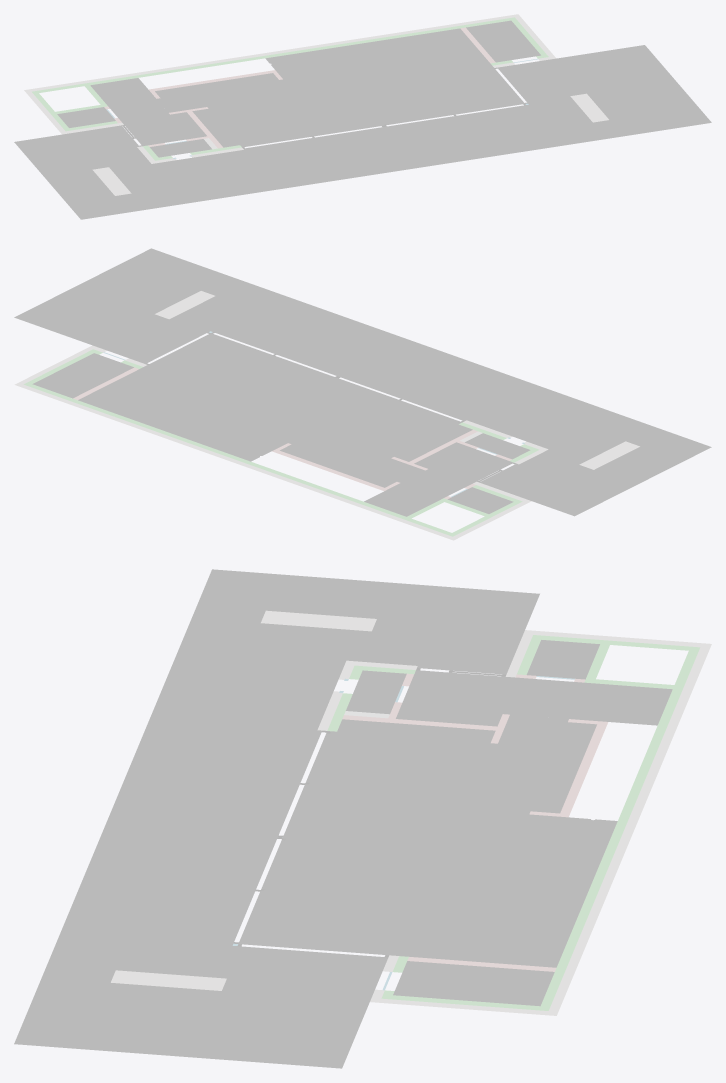
File: floor-495800.glb
3 views of the same model, one above another, from view 1: azimuth 30°, elevation 25°; view 2: azimuth 150°, elevation 25°; view 3: azimuth 270°, elevation 25° (orthographic). The views are drawn at different scales.
Parts seen in each view (by area): view 1: SectionBody_8,b683faed-fb9d-4cc6-b100-20de4a1bdad3, SectionBody_24,c4d4f5d7-260c-4ad4-a9ce-62868acbba62, SectionBody_52,63c04251-d135-4bce-8152-a9d17808b4c5, SectionBody_56,2d03ef07-ffb8-4f88-878f-c5a2b548d946, SectionBody_35,dc67b657-ab68-42d4-8bbd-9122a325cf12, SectionBody_34,dc67b657-ab68-42d4-8bbd-9122a325cf12, SectionBody_60,40f009c5-f6c7-4ef2-8b93-dde184843d29, SectionBody_32,89b1fc52-30c9-421b-8aba-7937692566b4, SectionBody_33,795bc6dd-ffb6-464f-bd53-32254240021a, SectionBody_58,afa63a6e-7fae-4072-89ff-7fe7ec9445ff, SectionBody_43,9666f702-09d8-429c-ab40-5c51cb5530fb; view 2: SectionBody_8,b683faed-fb9d-4cc6-b100-20de4a1bdad3, SectionBody_24,c4d4f5d7-260c-4ad4-a9ce-62868acbba62, SectionBody_52,63c04251-d135-4bce-8152-a9d17808b4c5, SectionBody_56,2d03ef07-ffb8-4f88-878f-c5a2b548d946, SectionBody_35,dc67b657-ab68-42d4-8bbd-9122a325cf12, SectionBody_34,dc67b657-ab68-42d4-8bbd-9122a325cf12, SectionBody_60,40f009c5-f6c7-4ef2-8b93-dde184843d29, SectionBody_32,89b1fc52-30c9-421b-8aba-7937692566b4, SectionBody_33,795bc6dd-ffb6-464f-bd53-32254240021a, SectionBody_58,afa63a6e-7fae-4072-89ff-7fe7ec9445ff, SectionBody_43,9666f702-09d8-429c-ab40-5c51cb5530fb; view 3: SectionBody_8,b683faed-fb9d-4cc6-b100-20de4a1bdad3, SectionBody_24,c4d4f5d7-260c-4ad4-a9ce-62868acbba62, SectionBody_52,63c04251-d135-4bce-8152-a9d17808b4c5, SectionBody_56,2d03ef07-ffb8-4f88-878f-c5a2b548d946, SectionBody_35,dc67b657-ab68-42d4-8bbd-9122a325cf12, SectionBody_34,dc67b657-ab68-42d4-8bbd-9122a325cf12, SectionBody_60,40f009c5-f6c7-4ef2-8b93-dde184843d29, SectionBody_32,89b1fc52-30c9-421b-8aba-7937692566b4, SectionBody_58,afa63a6e-7fae-4072-89ff-7fe7ec9445ff, SectionBody_33,795bc6dd-ffb6-464f-bd53-32254240021a, SectionBody_43,9666f702-09d8-429c-ab40-5c51cb5530fb, SectionBody_0,3dff5309-9560-4853-bc5e-c196fdab0b36 (+3 smaller).
Part boxes in pixels (x1,y1,x2,y2): SectionBody_8,b683faed-fb9d-4cc6-b100-20de4a1bdad3: (14,45,711,219); SectionBody_24,c4d4f5d7-260c-4ad4-a9ce-62868acbba62: (155,28,524,147); SectionBody_52,63c04251-d135-4bce-8152-a9d17808b4c5: (90,78,206,146); SectionBody_56,2d03ef07-ffb8-4f88-878f-c5a2b548d946: (466,20,540,62); SectionBody_35,dc67b657-ab68-42d4-8bbd-9122a325cf12: (30,15,514,91); SectionBody_34,dc67b657-ab68-42d4-8bbd-9122a325cf12: (37,18,510,92); SectionBody_60,40f009c5-f6c7-4ef2-8b93-dde184843d29: (57,107,115,127); SectionBody_32,89b1fc52-30c9-421b-8aba-7937692566b4: (150,139,211,157); SectionBody_33,795bc6dd-ffb6-464f-bd53-32254240021a: (570,93,608,122); SectionBody_58,afa63a6e-7fae-4072-89ff-7fe7ec9445ff: (92,167,131,195); SectionBody_43,9666f702-09d8-429c-ab40-5c51cb5530fb: (149,70,276,91); SectionBody_8,b683faed-fb9d-4cc6-b100-20de4a1bdad3: (14,248,711,516); SectionBody_24,c4d4f5d7-260c-4ad4-a9ce-62868acbba62: (78,333,472,487); SectionBody_52,63c04251-d135-4bce-8152-a9d17808b4c5: (364,442,513,516); SectionBody_56,2d03ef07-ffb8-4f88-878f-c5a2b548d946: (32,353,133,398); SectionBody_35,dc67b657-ab68-42d4-8bbd-9122a325cf12: (19,384,452,538); SectionBody_34,dc67b657-ab68-42d4-8bbd-9122a325cf12: (28,384,451,534); SectionBody_60,40f009c5-f6c7-4ef2-8b93-dde184843d29: (447,487,513,513); SectionBody_32,89b1fc52-30c9-421b-8aba-7937692566b4: (465,433,530,459); SectionBody_33,795bc6dd-ffb6-464f-bd53-32254240021a: (155,291,214,319); SectionBody_58,afa63a6e-7fae-4072-89ff-7fe7ec9445ff: (579,441,639,469); SectionBody_43,9666f702-09d8-429c-ab40-5c51cb5530fb: (272,449,387,491); SectionBody_8,b683faed-fb9d-4cc6-b100-20de4a1bdad3: (14,569,539,1068); SectionBody_24,c4d4f5d7-260c-4ad4-a9ce-62868acbba62: (238,714,617,967); SectionBody_52,63c04251-d135-4bce-8152-a9d17808b4c5: (396,670,672,726); SectionBody_56,2d03ef07-ffb8-4f88-878f-c5a2b548d946: (393,961,554,1006); SectionBody_35,dc67b657-ab68-42d4-8bbd-9122a325cf12: (549,647,709,1011); SectionBody_34,dc67b657-ab68-42d4-8bbd-9122a325cf12: (541,651,698,1006); SectionBody_60,40f009c5-f6c7-4ef2-8b93-dde184843d29: (526,640,599,679); SectionBody_32,89b1fc52-30c9-421b-8aba-7937692566b4: (346,670,406,714); SectionBody_58,afa63a6e-7fae-4072-89ff-7fe7ec9445ff: (261,610,376,631); SectionBody_33,795bc6dd-ffb6-464f-bd53-32254240021a: (111,970,226,990); SectionBody_43,9666f702-09d8-429c-ab40-5c51cb5530fb: (559,721,608,817); SectionBody_0,3dff5309-9560-4853-bc5e-c196fdab0b36: (523,630,711,647).
Size of the model in its own units: 23653 by 0 by 13975.
